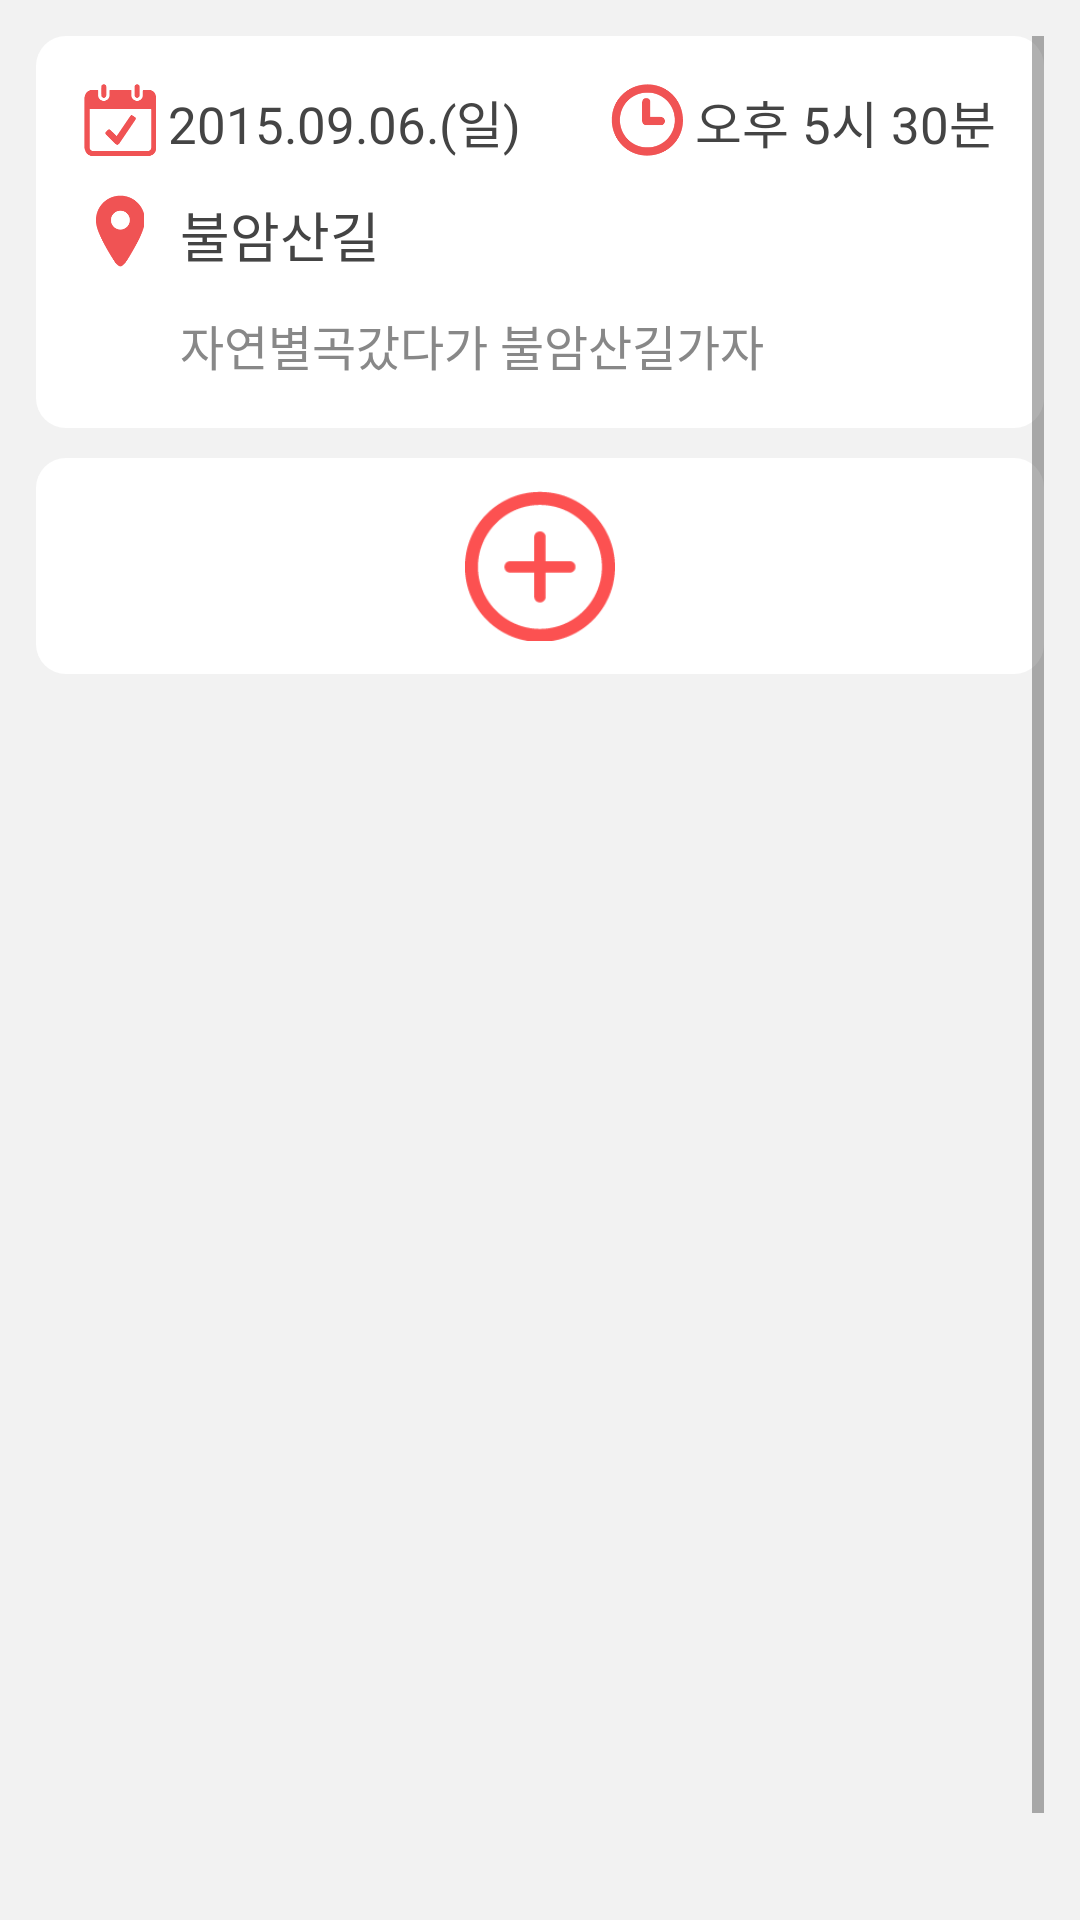

Screen size 1080px×1920px. Icon name, then its center in pixels as [x,y]:
group addplan: [540,566]
sch date: [120,120]
sch location: [120,231]
sch time: [647,120]
